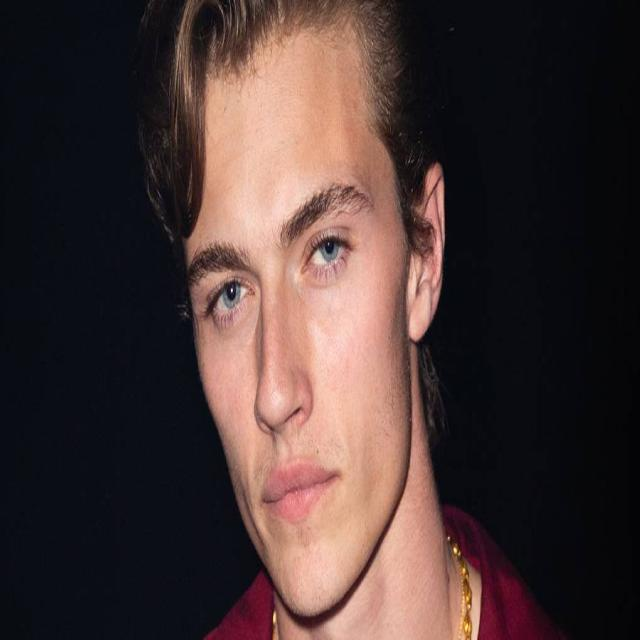human: (129, 7, 576, 640)
